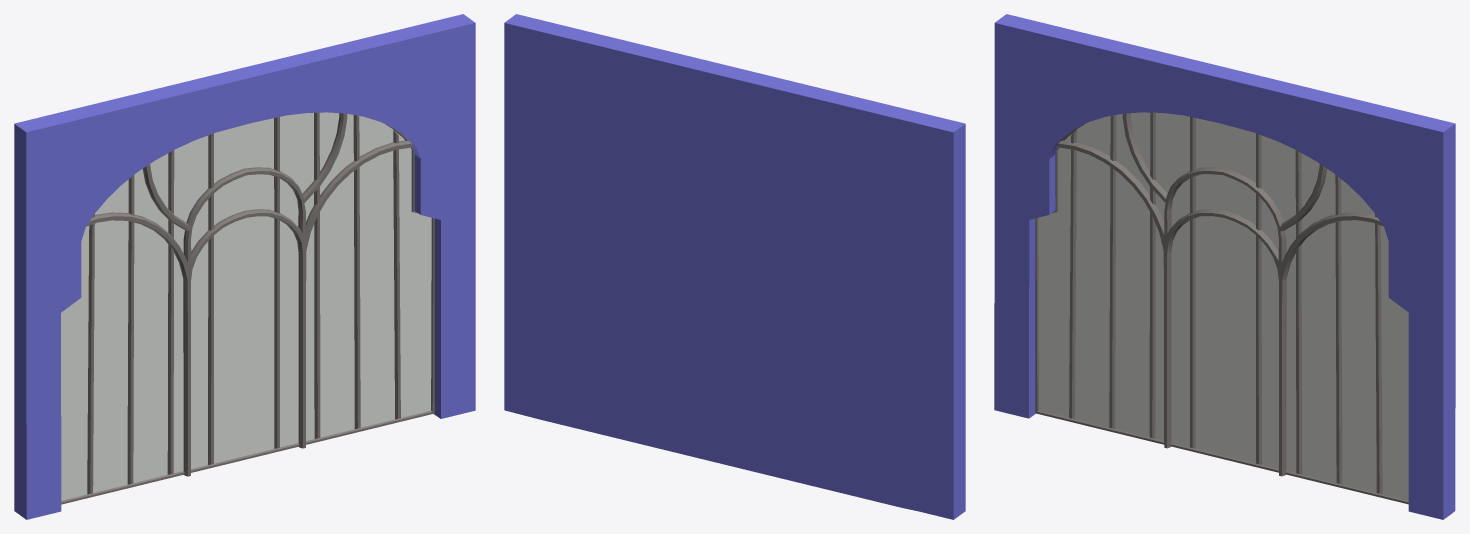
File: SP_House02_Window01.fbx
3 renders of one model, left to right at view 1: azimuth 30°, elevation 25°; view 2: azimuth 150°, elevation 25°; view 3: azimuth 330°, elevation 25°, orthographic.
Visible parts, largest first — view 1: SP_House02_Window01; view 2: SP_House02_Window01; view 3: SP_House02_Window01.
Part boxes in pixels (bbox=[...]): SP_House02_Window01: bbox=[14, 14, 475, 519]; SP_House02_Window01: bbox=[504, 14, 965, 519]; SP_House02_Window01: bbox=[994, 14, 1455, 519].
Bounding box in the file's own units: 2.78 × 2.29 × 0.1308.
